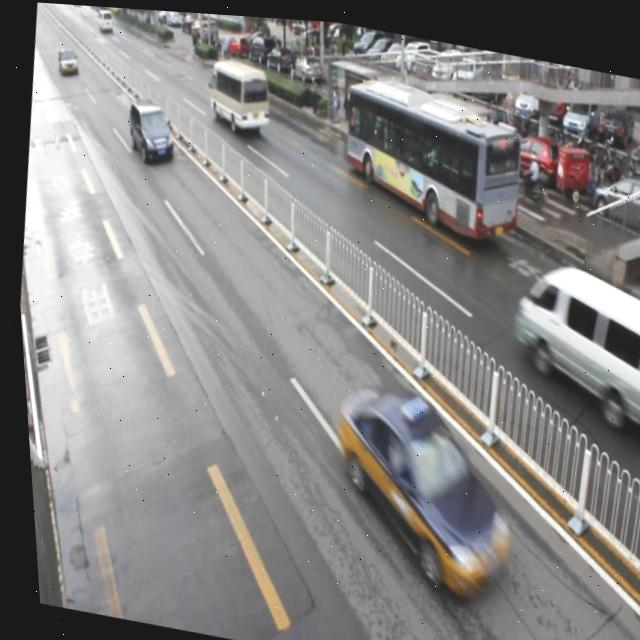car: (313, 372, 518, 591)
truck: (496, 244, 640, 418), (202, 51, 274, 130), (121, 92, 178, 165)
van: (332, 64, 527, 237)
